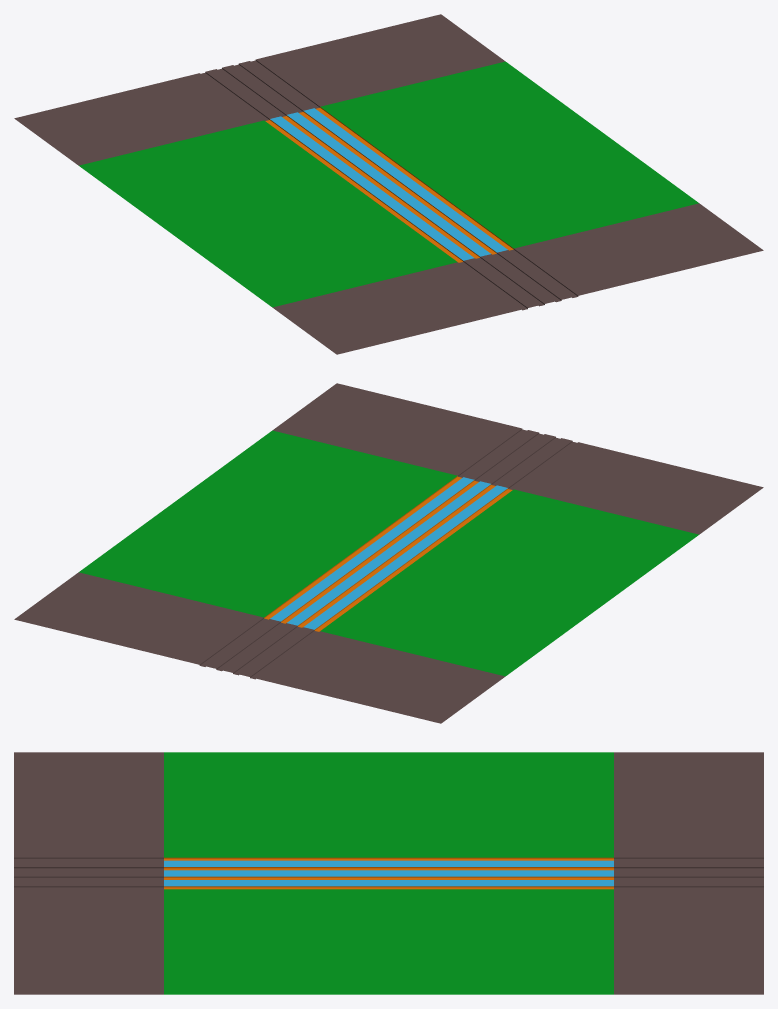
Rendered from Game Env 2.fbx.
3 renders of one model, top to bottom at view 1: azimuth 30°, elevation 25°; view 2: azimuth 150°, elevation 25°; view 3: azimuth 270°, elevation 25°, orthographic. The views are drawn at different scales.
Parts seen in each view (by area): view 1: Lanes_xx, Lanes_00, Lanes_x, Lanes_01, Lanes_02; view 2: Lanes_x, Lanes_01, Lanes_xx, Lanes_00, Lanes_02; view 3: Lanes_01, Lanes_02, Lanes_00, Lanes_x, Lanes_xx.
Boxes of the visible parts, left/top/right/bottom form: Lanes_xx: left=272, top=203, right=763, bottom=354; Lanes_00: left=79, top=61, right=569, bottom=212; Lanes_x: left=14, top=14, right=505, bottom=165; Lanes_01: left=208, top=156, right=698, bottom=307; Lanes_02: left=143, top=109, right=634, bottom=259; Lanes_x: left=14, top=572, right=505, bottom=723; Lanes_01: left=208, top=430, right=698, bottom=581; Lanes_xx: left=272, top=383, right=763, bottom=534; Lanes_00: left=79, top=525, right=569, bottom=676; Lanes_02: left=143, top=478, right=634, bottom=628; Lanes_01: left=164, top=752, right=313, bottom=994; Lanes_02: left=314, top=752, right=463, bottom=994; Lanes_00: left=464, top=752, right=613, bottom=994; Lanes_x: left=614, top=752, right=763, bottom=994; Lanes_xx: left=14, top=752, right=163, bottom=994.
Bounding box in the file's own units: 458200 × 1000 × 600000.
